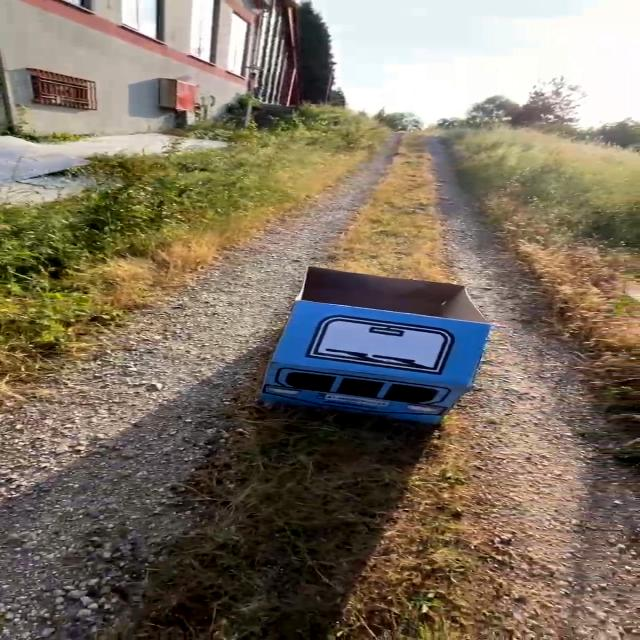blue_car: (205, 257, 558, 459)
